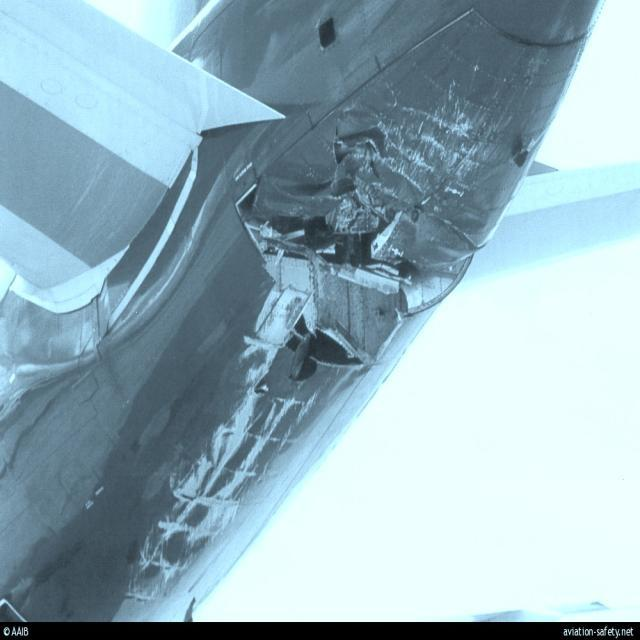crack: (239, 126, 420, 383)
